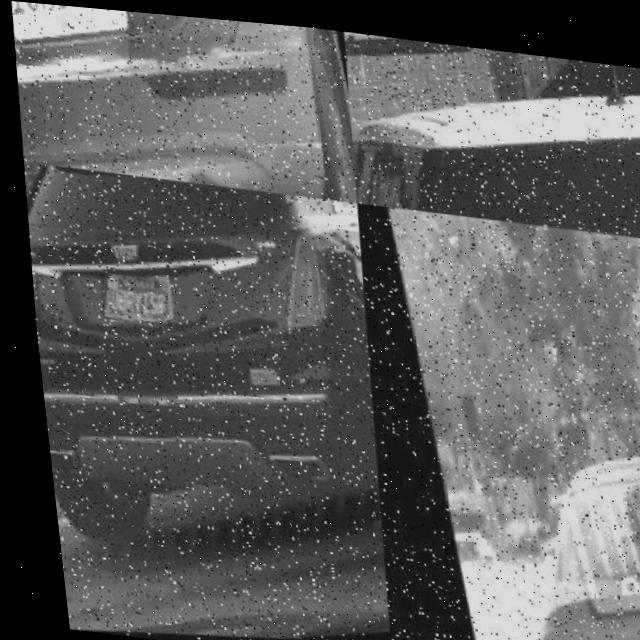LicensePlate: (9, 1, 131, 74), (96, 273, 161, 324)
